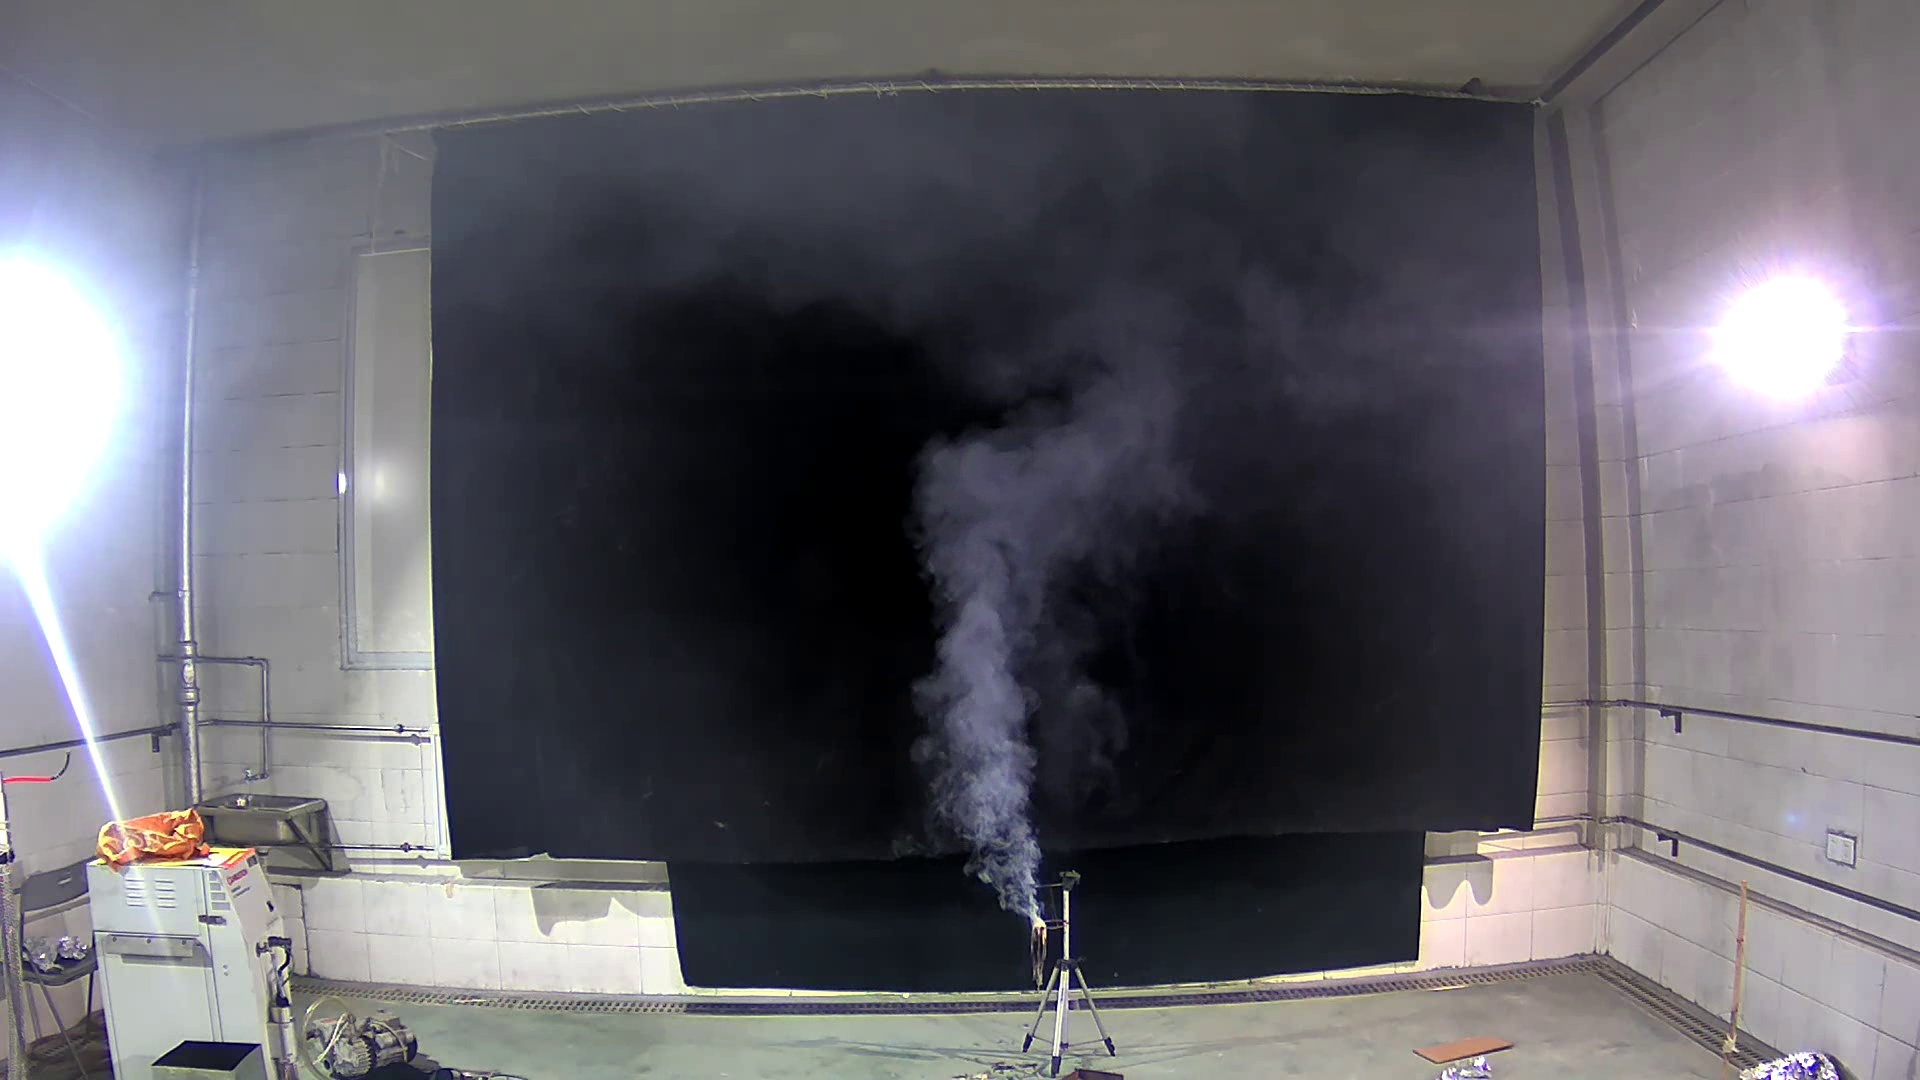smoke: (887, 375, 1203, 928)
